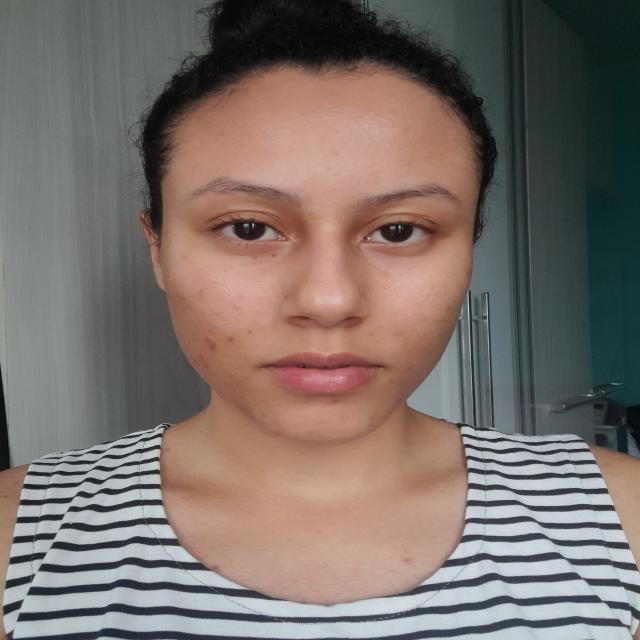Acne: (200, 336, 219, 350), (392, 328, 408, 340), (196, 356, 209, 370), (434, 316, 447, 327), (365, 332, 380, 340), (232, 305, 245, 314), (227, 372, 238, 382), (245, 328, 256, 337), (329, 400, 344, 406), (324, 165, 333, 175), (404, 364, 414, 372), (225, 322, 235, 330), (388, 377, 397, 385), (183, 304, 194, 310), (198, 288, 206, 296), (226, 335, 236, 341), (302, 395, 313, 400)
Englarged-Pores: (215, 274, 277, 302), (379, 274, 430, 304)
